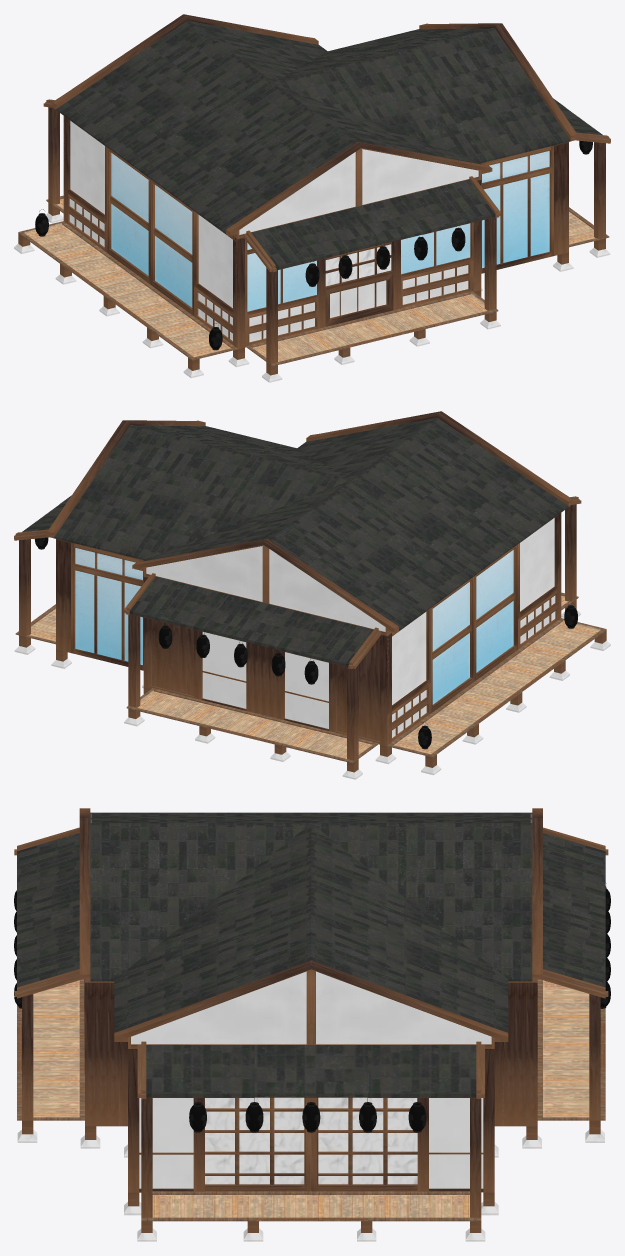
The model's file is house.opt.glb.
3 renders of one model, top to bottom at view 1: azimuth 30°, elevation 25°; view 2: azimuth 150°, elevation 25°; view 3: azimuth 270°, elevation 25°, orthographic. The views are drawn at different scales.
Visible parts, largest first — view 1: JPHouse3_low_MAT_JPHouse_0; view 2: JPHouse3_low_MAT_JPHouse_0; view 3: JPHouse3_low_MAT_JPHouse_0.
Part boxes in pixels (x1,y1,x2,y2): JPHouse3_low_MAT_JPHouse_0: [14, 14, 610, 382]; JPHouse3_low_MAT_JPHouse_0: [14, 411, 610, 779]; JPHouse3_low_MAT_JPHouse_0: [14, 808, 610, 1241].
Size of the model in its own units: 9.24 by 3.82 by 8.23.
1 material, 1 textured.
